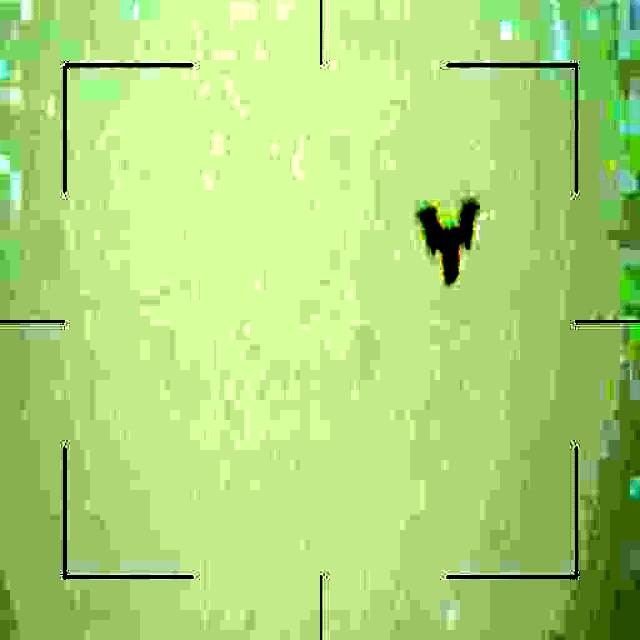bird: (420, 192, 479, 294)
